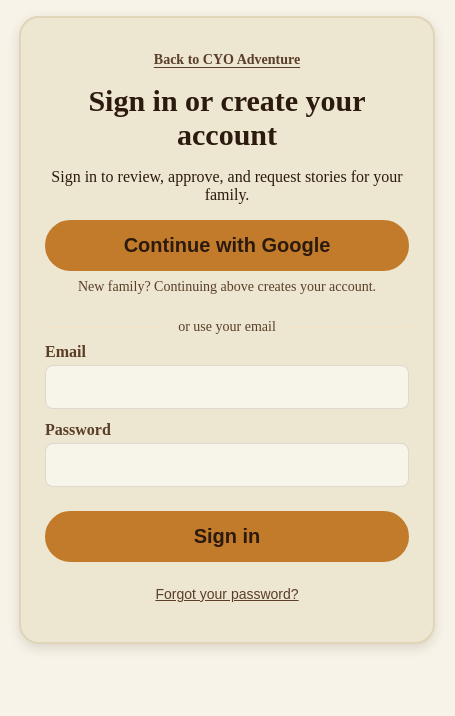
Test: LoginPage OAuth buttons (startSignIn) › shows a sign-in error banner when signInWithOAuth rejects
This screenshot has width=455, height=716.
Step 1. Click the button "Continue with Google" → [227, 246], box [45,220,409,271]
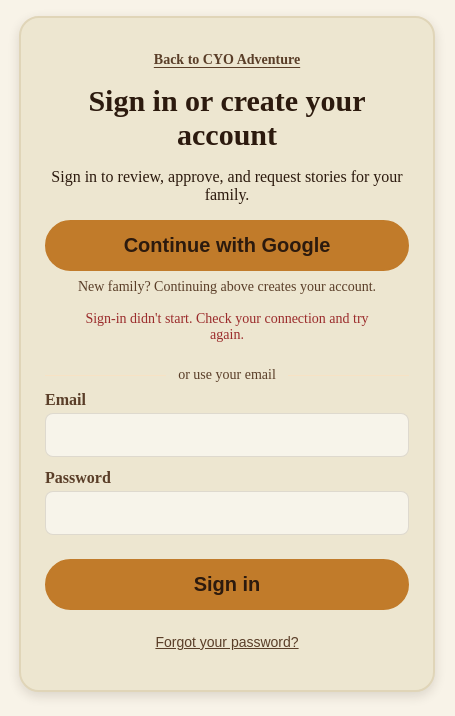
Expected: the message shows "Sign-in didn't start", [85,311,369,342]
